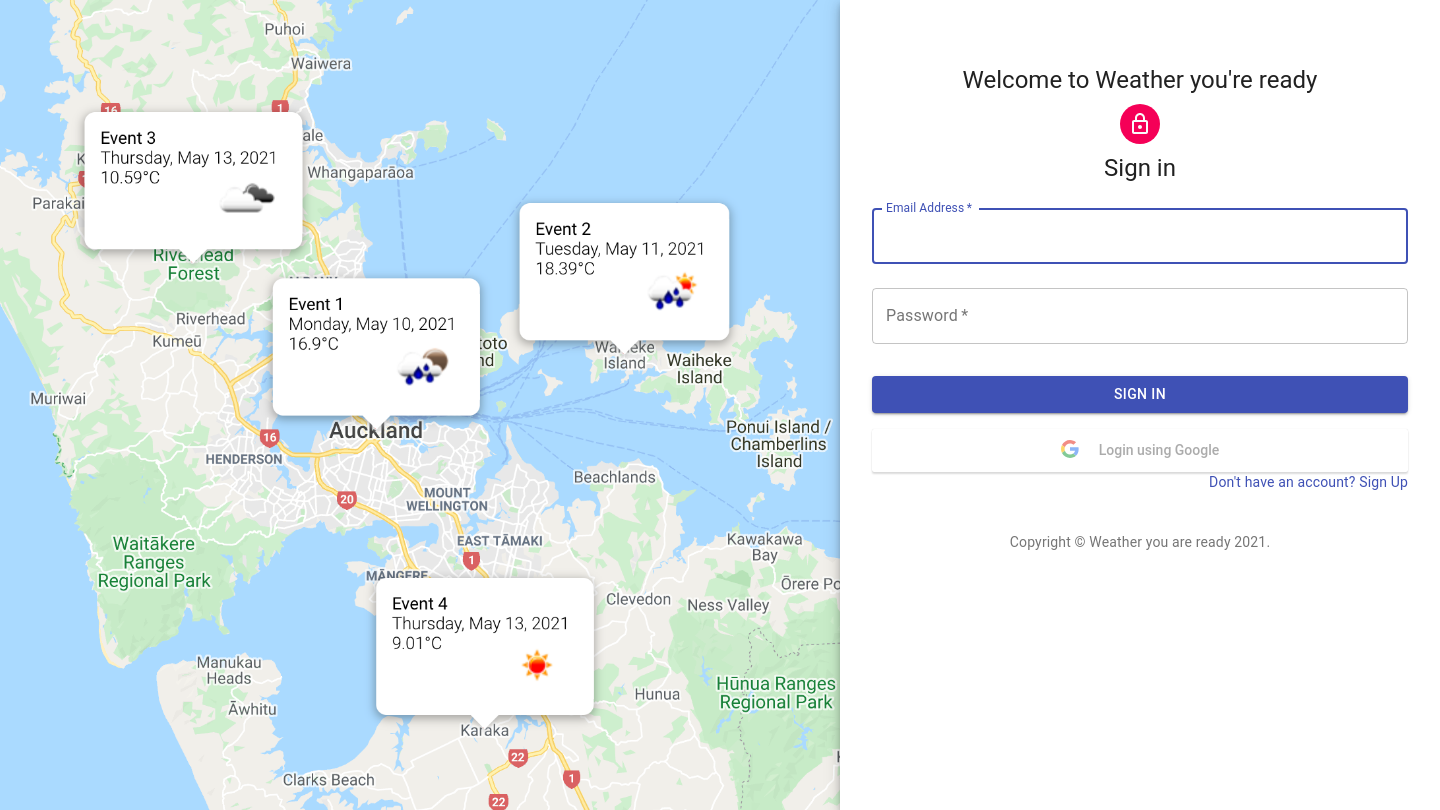
Scenario: errorMessage › error messages shown when submit form with empty fields
The width and height of the screenshot is (1440, 810).
Click the button with test id "submit-login": (1140, 394) [872, 376, 1408, 412]
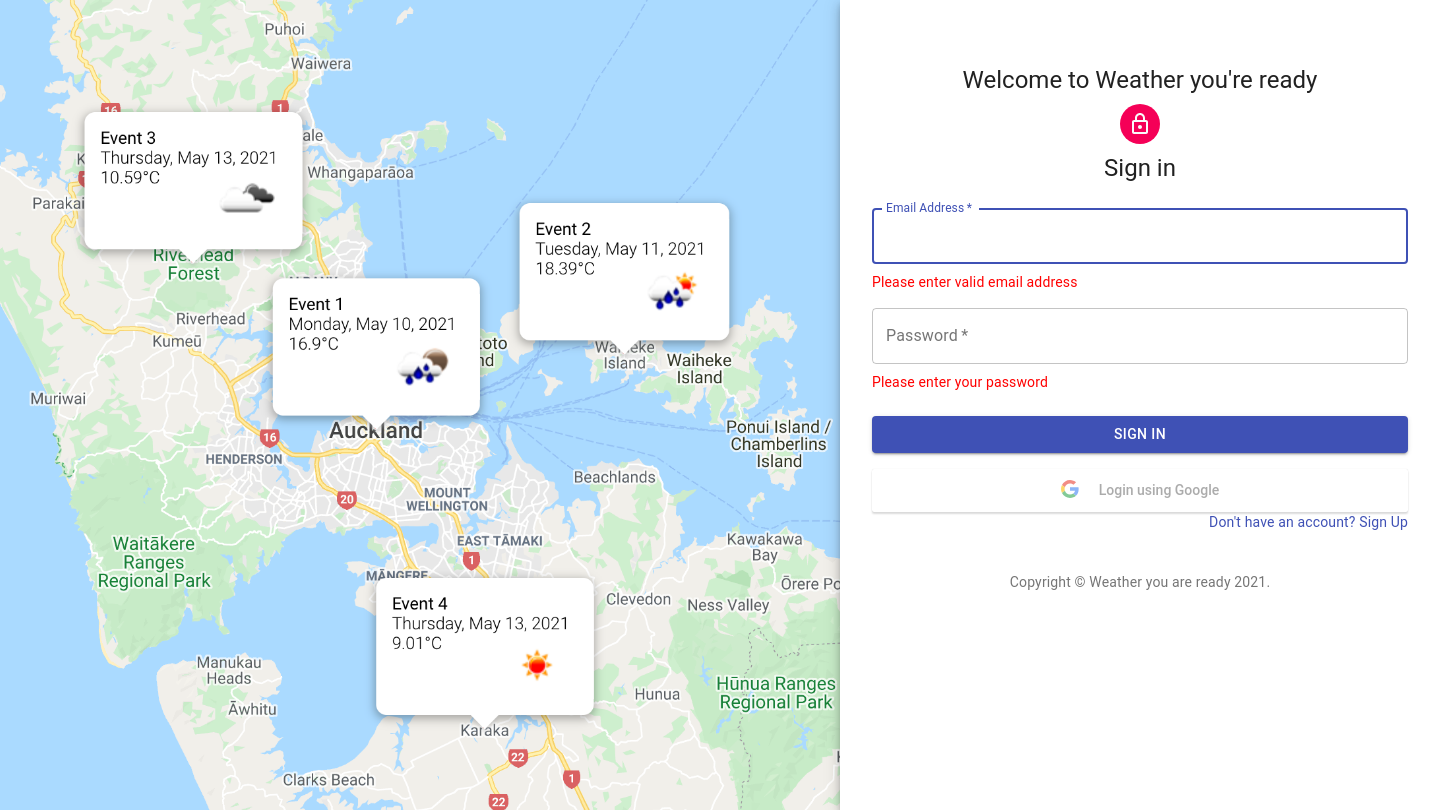
Result: the text "Please enter valid email address" is shown at [872, 274, 1078, 290]
Result: the text "Please enter your password" is shown at [872, 374, 1048, 390]
